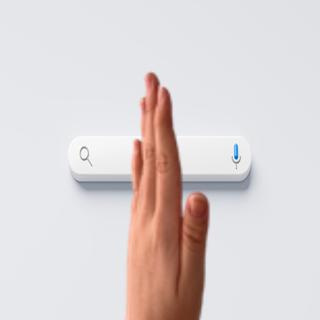Right: (102, 61, 216, 315)
